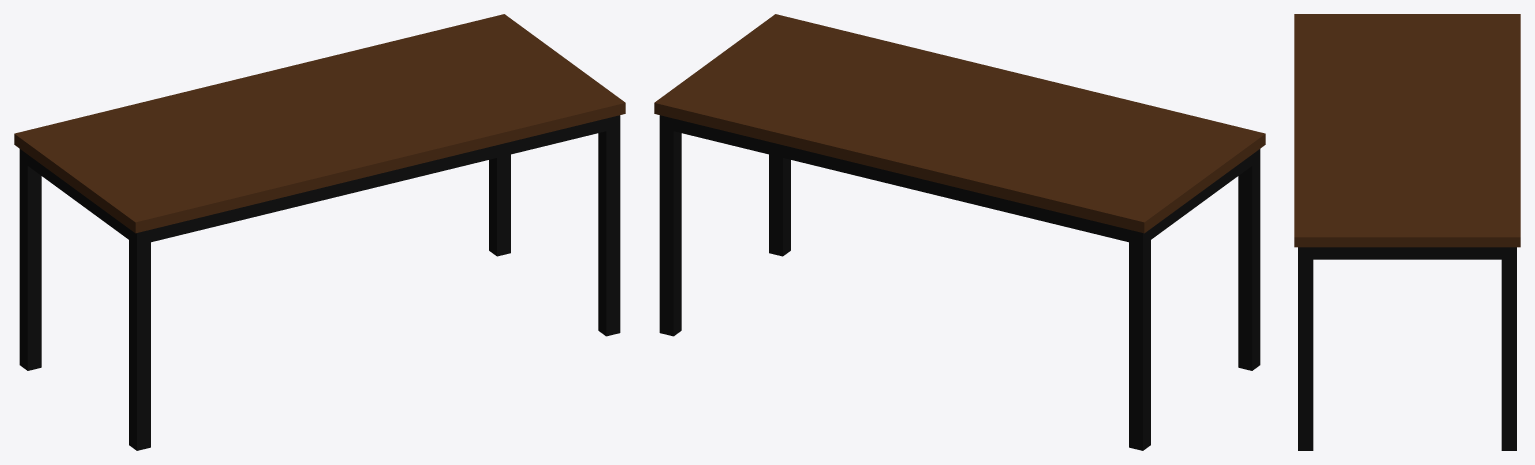
Rendered from Desk.fbx.
The picture shows the model from 3 angles, left to right: view 1: azimuth 30°, elevation 25°; view 2: azimuth 150°, elevation 25°; view 3: azimuth 270°, elevation 25°; orthographic projection. The views are drawn at different scales.
Parts seen in each view (by area): view 1: Tabletop; view 2: Tabletop; view 3: Tabletop.
Boxes of the visible parts, <box> form: Tabletop: <box>14,14,625,450</box>; Tabletop: <box>654,14,1265,450</box>; Tabletop: <box>1294,14,1520,450</box>.
Size of the model in its own units: 140 by 63 by 60.
